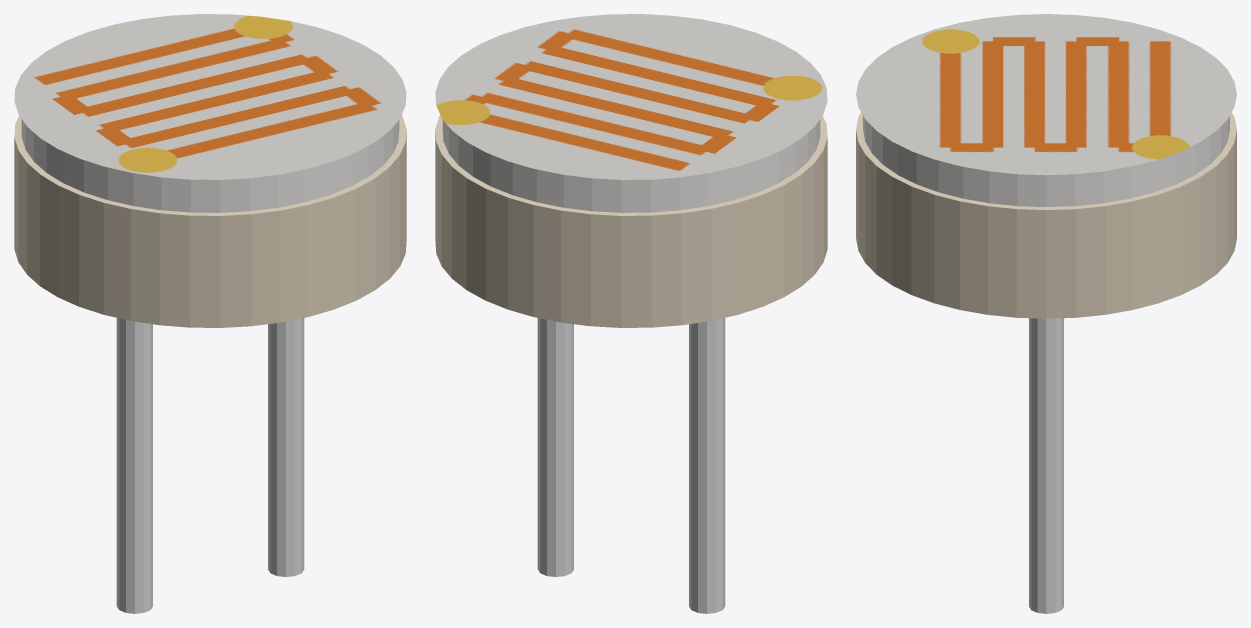
Rendered from Fotorresistor_LDR.glb.
3 views of the same model, side by side, from view 1: azimuth 30°, elevation 25°; view 2: azimuth 150°, elevation 25°; view 3: azimuth 270°, elevation 25° (orthographic). The views are drawn at different scales.
Visible parts, largest first — view 1: Pista_Fotosensible_LDR, Cuerpo_Ceramica_LDR, Resina_LDR, Pata_1_LDR, Pata_2_LDR; view 2: Pista_Fotosensible_LDR, Cuerpo_Ceramica_LDR, Resina_LDR, Pata_1_LDR, Pata_2_LDR; view 3: Pista_Fotosensible_LDR, Cuerpo_Ceramica_LDR, Resina_LDR, Pata_2_LDR.
Part boxes in pixels (left/top/right/bottom): Pista_Fotosensible_LDR: left=14, top=14, right=406, bottom=179; Cuerpo_Ceramica_LDR: left=14, top=115, right=406, bottom=327; Resina_LDR: left=21, top=119, right=399, bottom=212; Pata_1_LDR: left=116, top=318, right=152, bottom=613; Pata_2_LDR: left=268, top=318, right=304, bottom=576; Pista_Fotosensible_LDR: left=435, top=14, right=827, bottom=179; Cuerpo_Ceramica_LDR: left=435, top=115, right=827, bottom=327; Resina_LDR: left=442, top=119, right=820, bottom=212; Pata_1_LDR: left=689, top=318, right=725, bottom=613; Pata_2_LDR: left=537, top=318, right=573, bottom=576; Pista_Fotosensible_LDR: left=856, top=14, right=1236, bottom=174; Cuerpo_Ceramica_LDR: left=856, top=112, right=1236, bottom=318; Resina_LDR: left=863, top=115, right=1229, bottom=206; Pata_2_LDR: left=1029, top=318, right=1063, bottom=613.
Size of the model in its own units: 0.0054 by 0.00745 by 0.0054.
4 materials, 1 textured.
